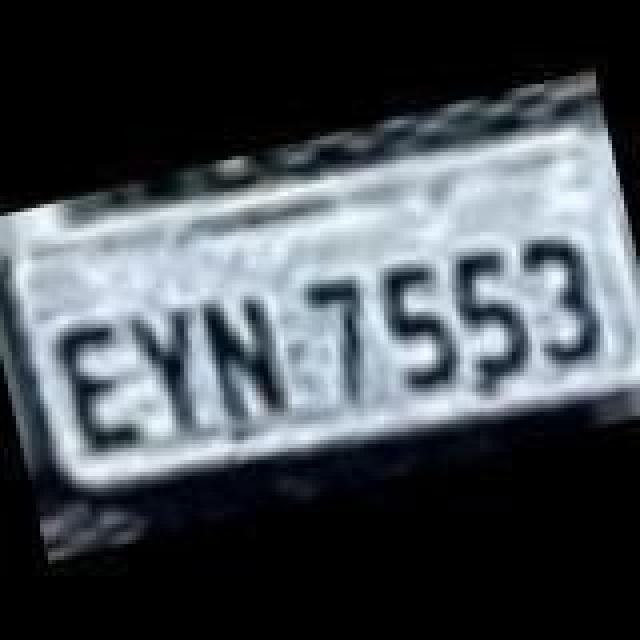3: (508, 226, 612, 378)
5: (440, 238, 536, 390), (378, 256, 470, 400)
7: (296, 268, 392, 412)
E: (50, 310, 150, 454)
N: (194, 284, 294, 432)
Y: (122, 304, 222, 444)
